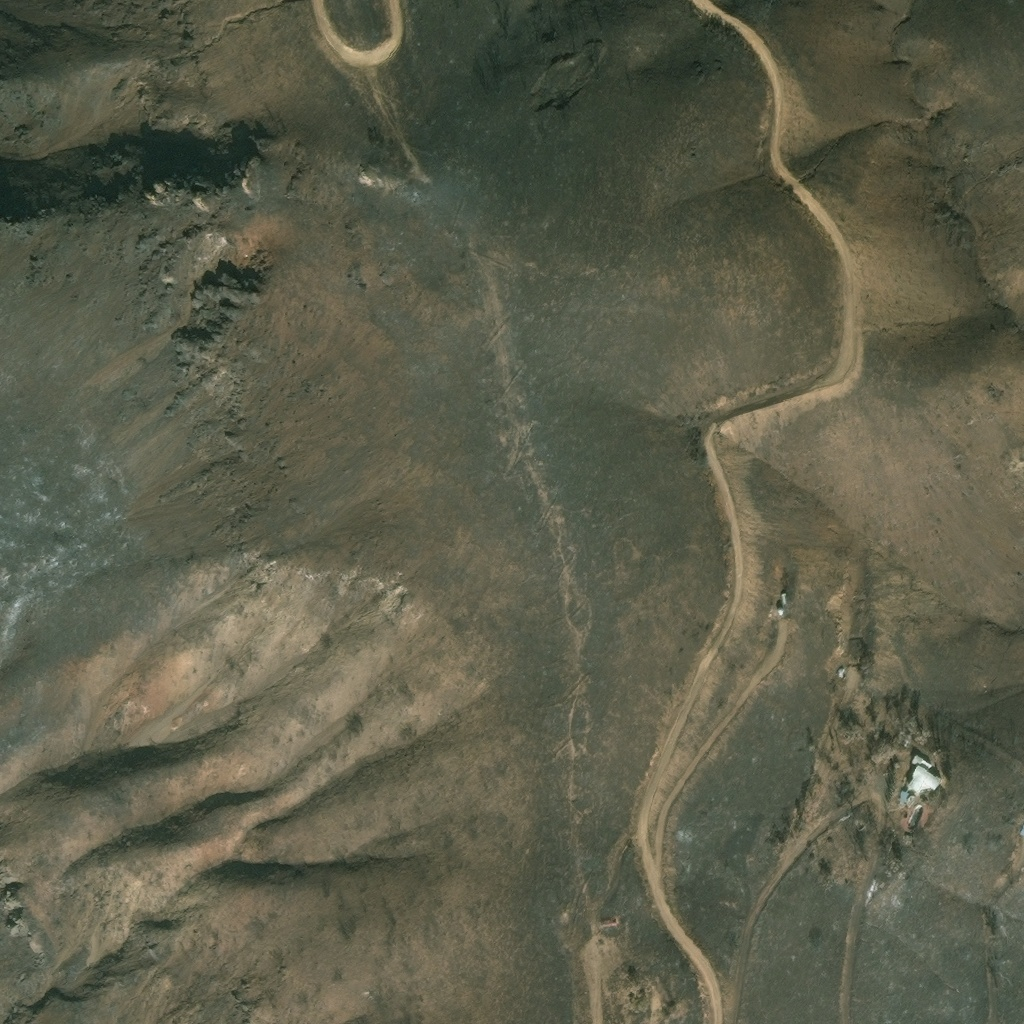0 no-damage: (904, 765, 941, 800), (908, 753, 930, 769), (775, 592, 784, 614), (903, 793, 916, 806), (901, 787, 911, 801)
